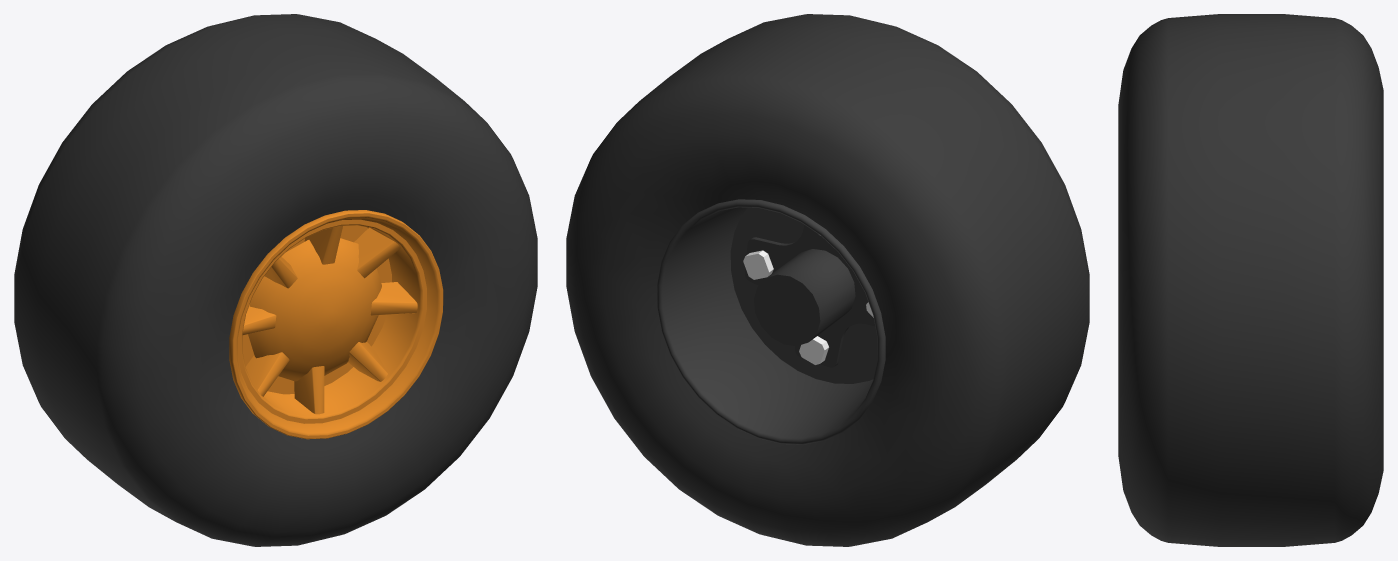
Rendered from wheel.dae.
The picture shows the model from 3 angles, left to right: view 1: azimuth 30°, elevation 25°; view 2: azimuth 150°, elevation 25°; view 3: azimuth 270°, elevation 25°; orthographic projection. The views are drawn at different scales.
Parts seen in each view (by area): view 1: Wheel_Front_Right; view 2: Wheel_Front_Right; view 3: Wheel_Front_Right.
Part boxes in pixels (<box>): Wheel_Front_Right: <box>14,14,537,546</box>; Wheel_Front_Right: <box>566,14,1089,546</box>; Wheel_Front_Right: <box>1118,14,1383,546</box>.
Bounding box in the file's own units: 0.4429 × 0.221 × 0.4429.
